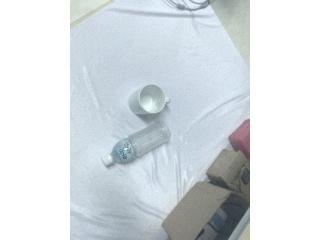bottle: (102, 120, 171, 167), (196, 192, 250, 240)
cup: (129, 83, 172, 117)
